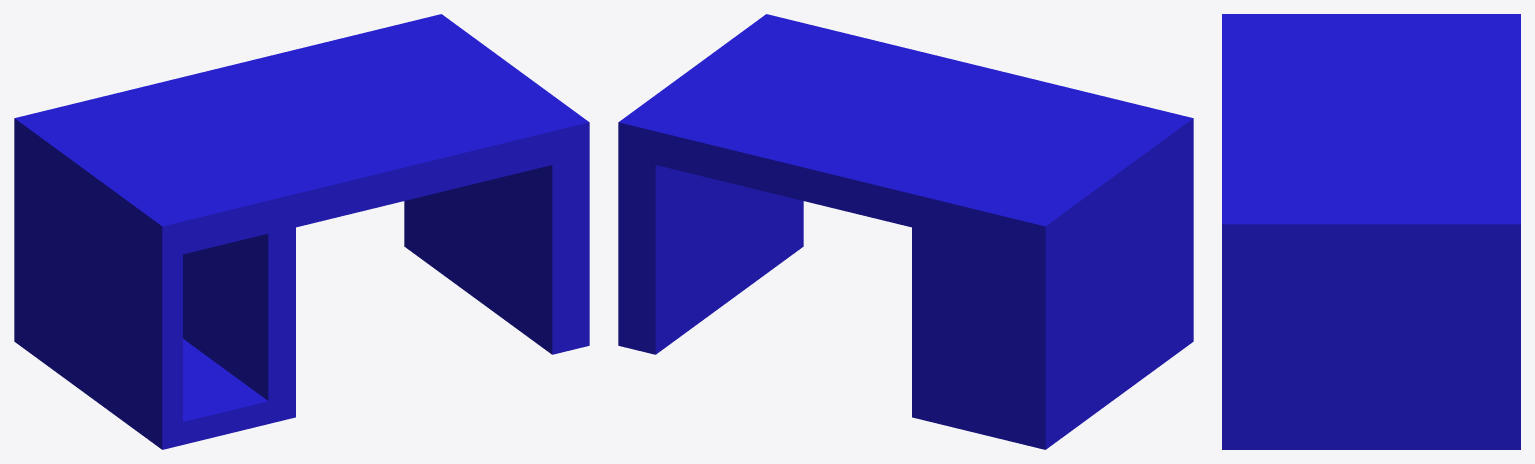
File: bureau.glb
3 renders of one model, left to right at view 1: azimuth 30°, elevation 25°; view 2: azimuth 150°, elevation 25°; view 3: azimuth 270°, elevation 25°, orthographic.
Parts seen in each view (by area): view 1: Cube; view 2: Cube; view 3: Cube.
Part boxes in pixels (x1,y1,x2,y2): Cube: (14, 14, 589, 449); Cube: (618, 14, 1193, 449); Cube: (1222, 14, 1520, 449).
Size of the model in its own units: 4 by 2 by 2.4.
